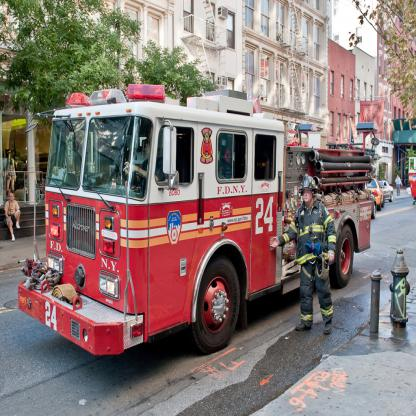Car: (365, 176, 384, 209), (379, 180, 394, 202)
